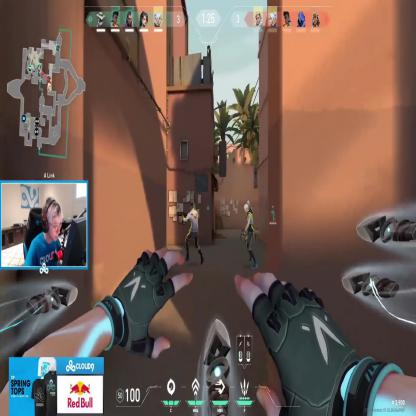enemy: (182, 202, 203, 265), (243, 200, 258, 270)
enemy_head: (244, 200, 249, 213), (190, 202, 193, 211)
